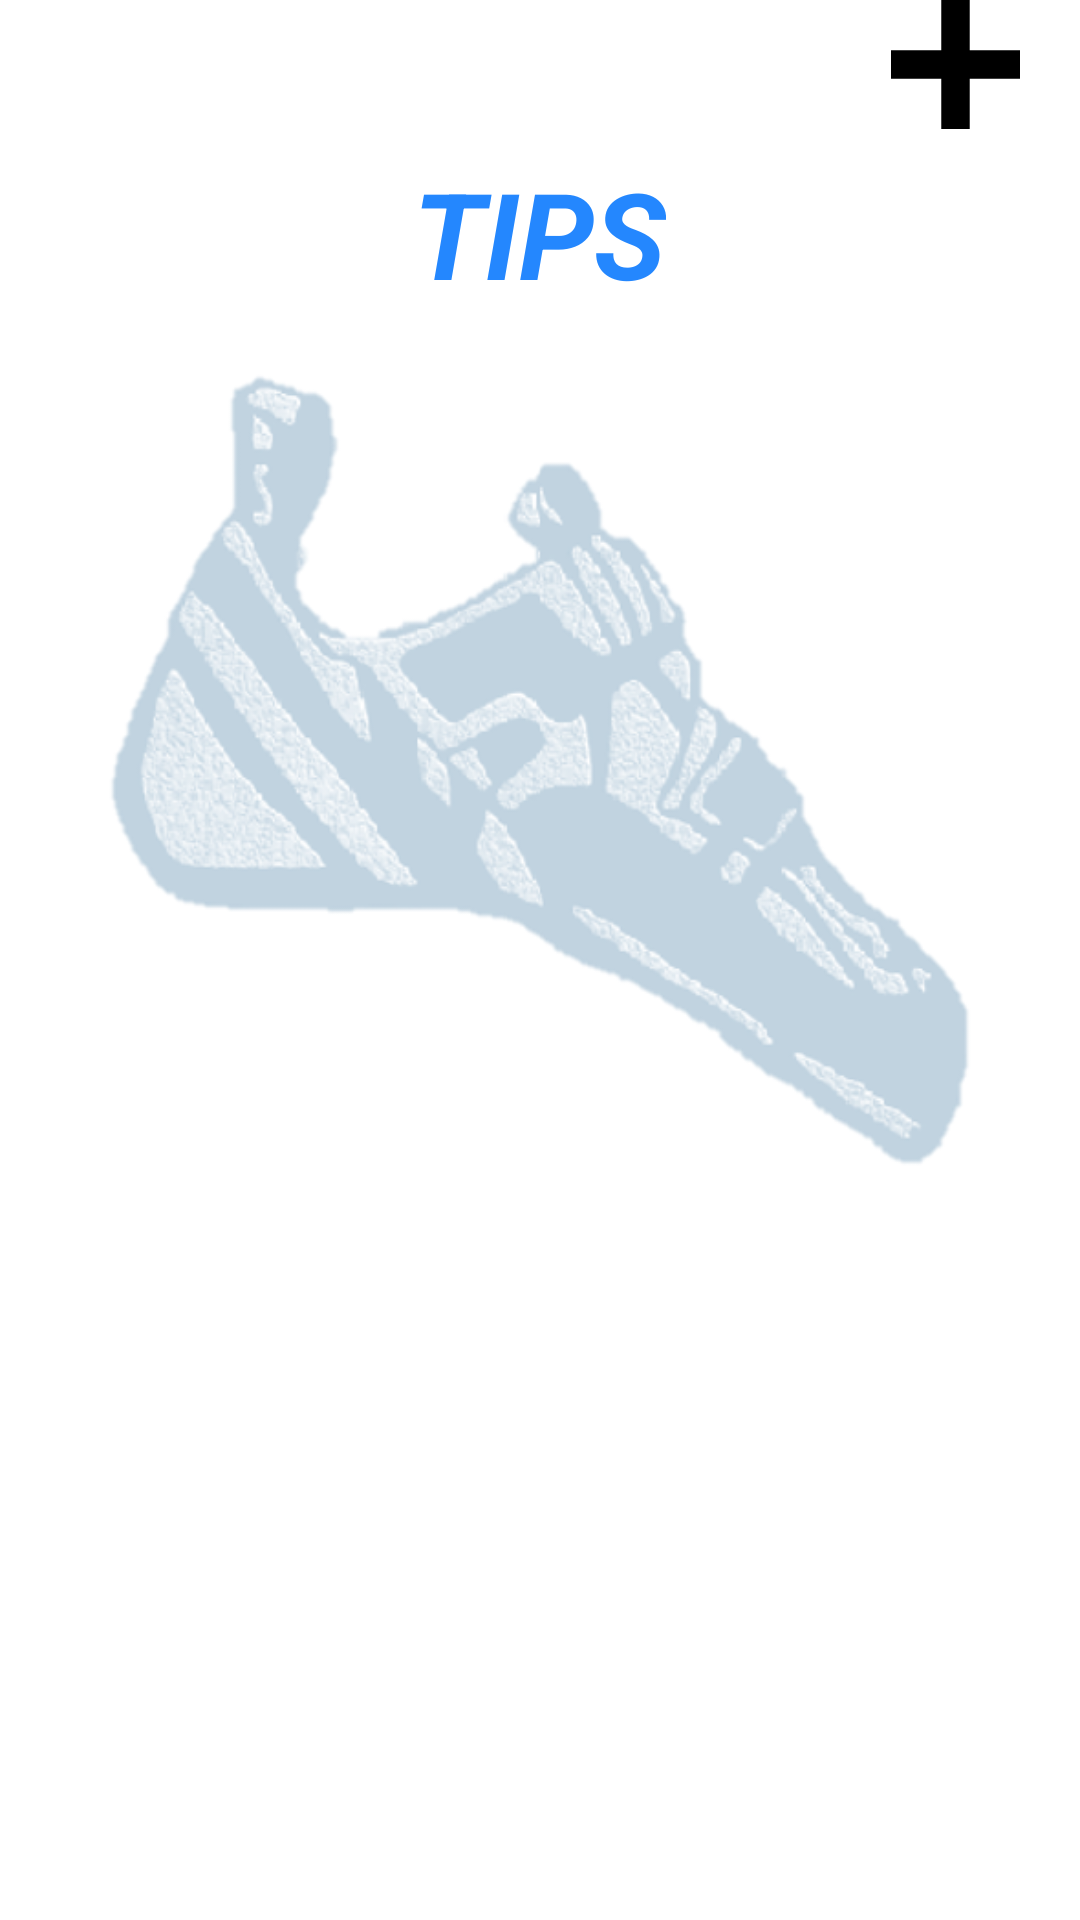

Icon click points for this 1080px×1920px phone screenshot, format point (x, y):
add: point (955, 64)
